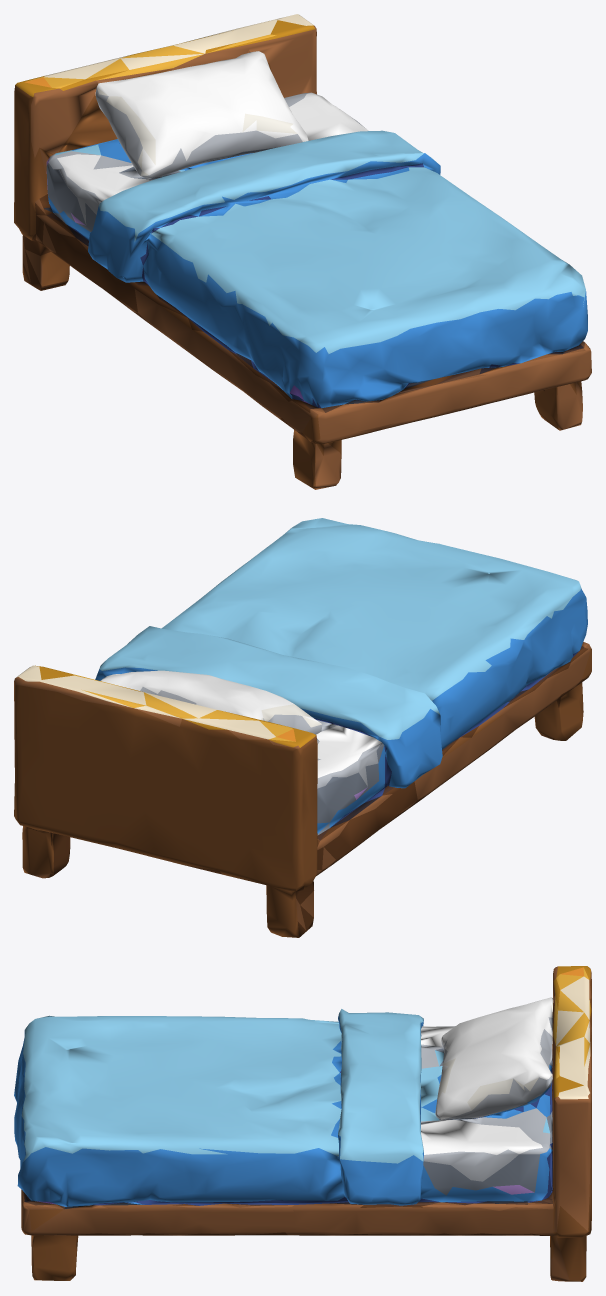
File: SM_bed_single_blue.glb
The picture shows the model from 3 angles, top to bottom: view 1: azimuth 30°, elevation 25°; view 2: azimuth 150°, elevation 25°; view 3: azimuth 270°, elevation 25°; orthographic projection. The views are drawn at different scales.
Visible parts, largest first — view 1: SM_bed_single_blue; view 2: SM_bed_single_blue; view 3: SM_bed_single_blue.
Part boxes in pixels (x1,y1,x2,y2): SM_bed_single_blue: (14,14,591,489); SM_bed_single_blue: (14,518,591,937); SM_bed_single_blue: (14,966,591,1281).
Size of the model in its own units: 0.9373 by 0.55 by 1.52.
1 material, 1 textured.
